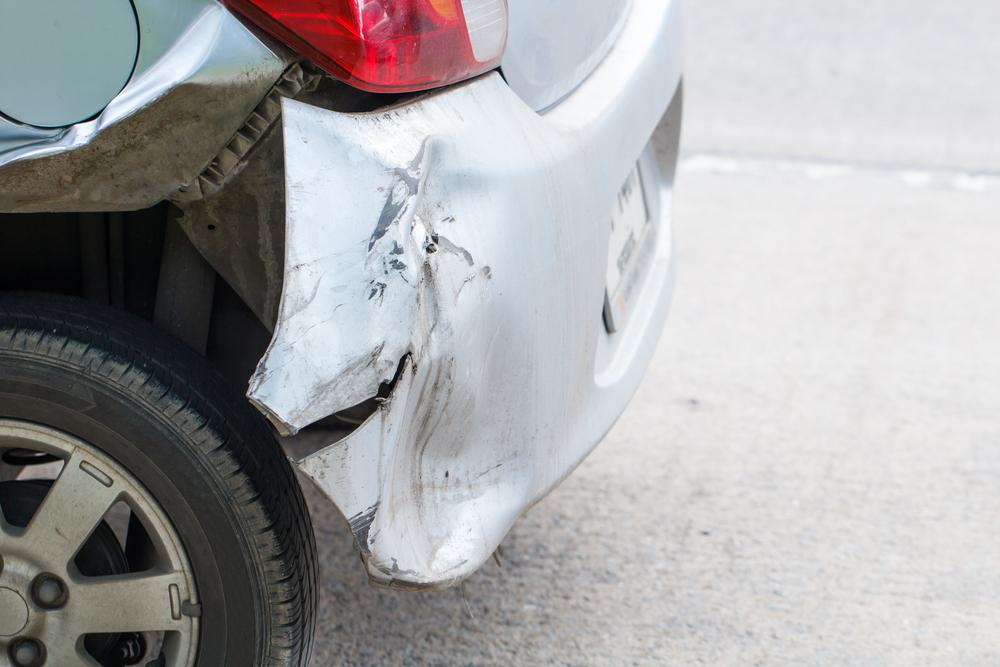crack: (293, 351, 414, 463)
dent: (369, 134, 525, 578)
scratch: (252, 153, 422, 425)
